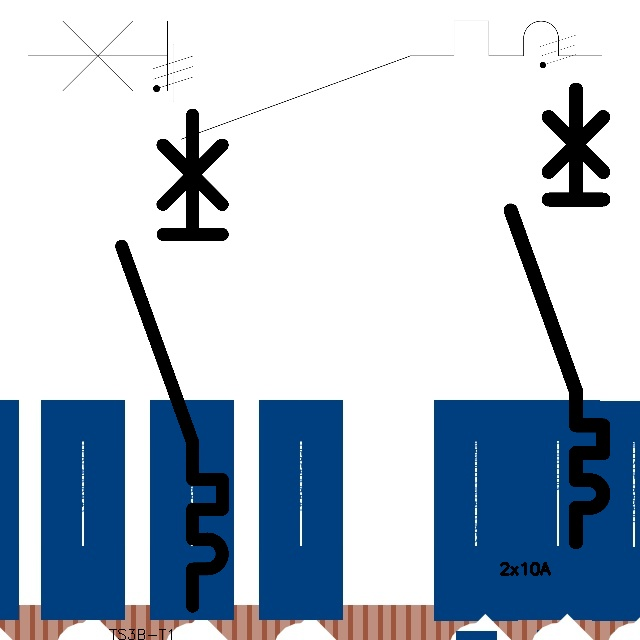interruptor_termomagnetico: (13, 6, 617, 154), (109, 102, 235, 618), (499, 77, 615, 553)
